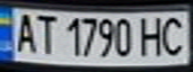0: (115, 16, 139, 58)
1: (60, 15, 81, 56)
7: (78, 15, 100, 57)
9: (97, 16, 118, 58)
A: (9, 10, 39, 54)
C: (157, 14, 190, 56)
H: (136, 14, 166, 57)
T: (30, 11, 60, 55)
